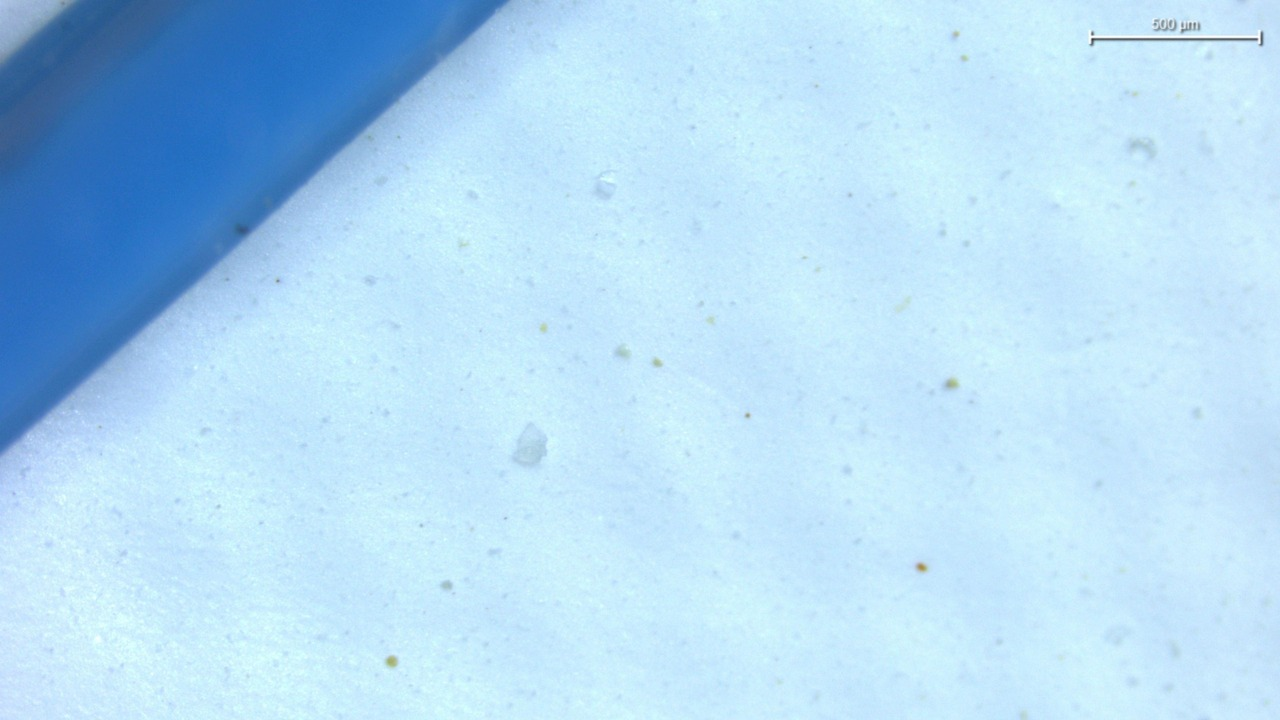microplastic_fragment: (512, 422, 547, 465)
